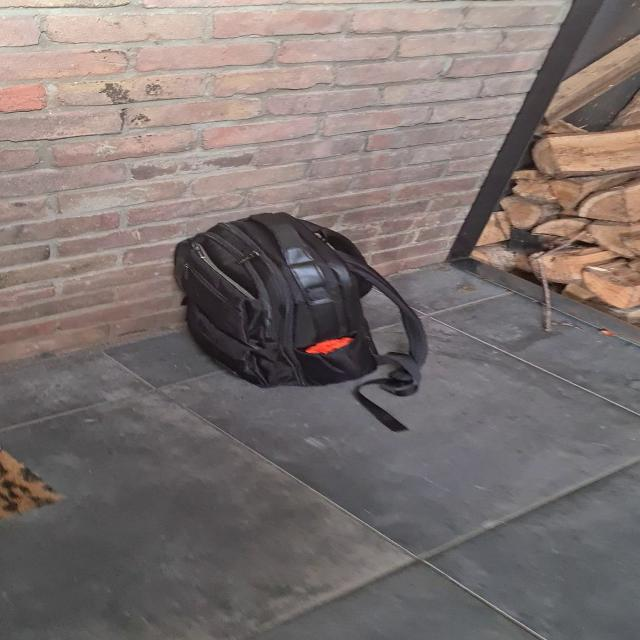backpack: (158, 205, 422, 394)
